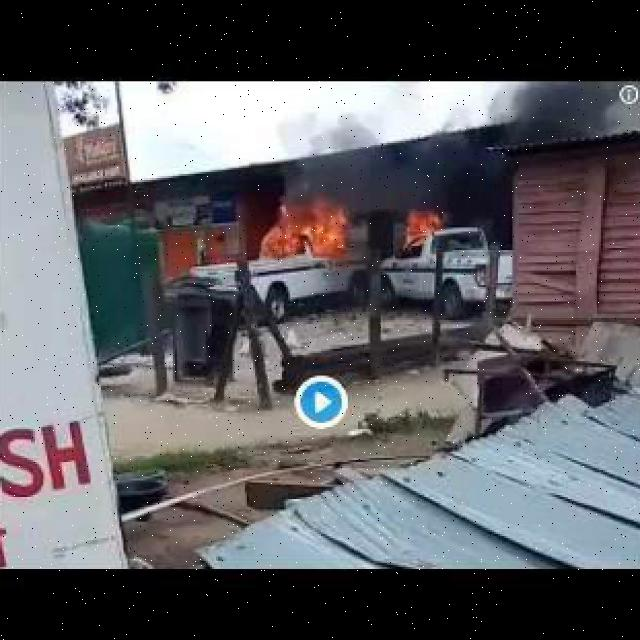fire: (257, 182, 358, 263), (397, 199, 449, 252)
smoke: (280, 106, 494, 209), (496, 81, 621, 158)
